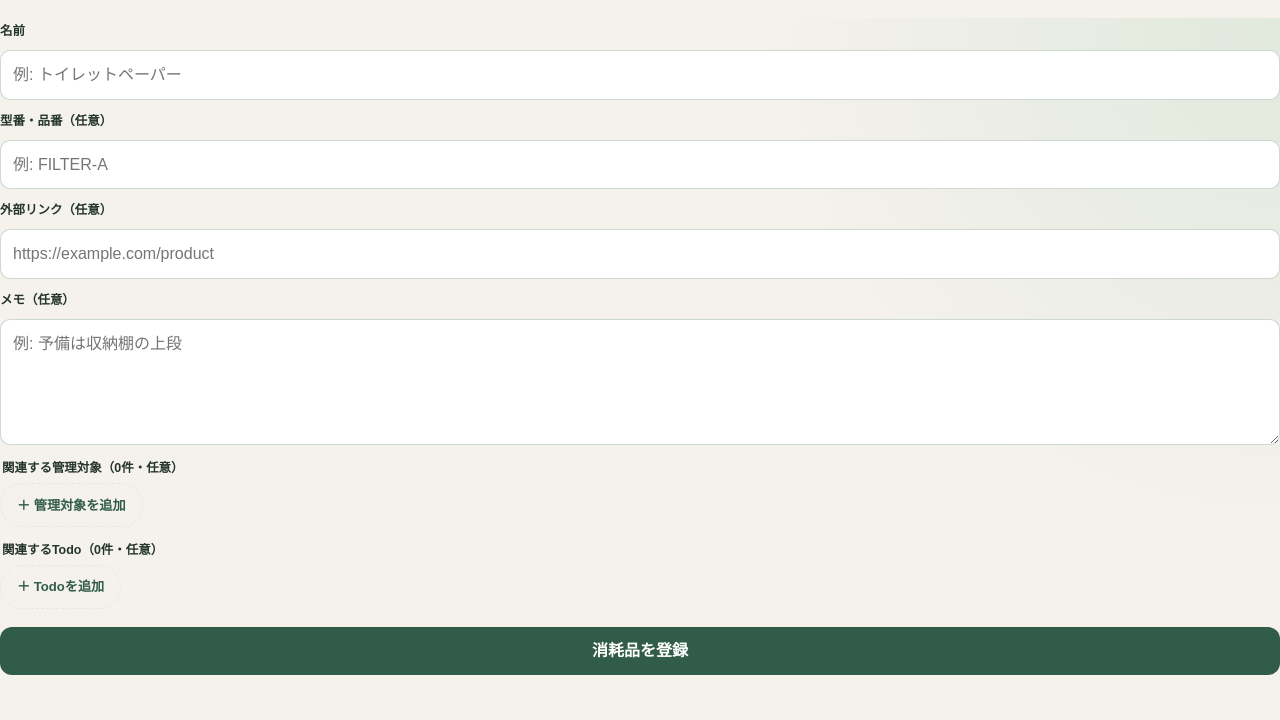
Scenario: 消耗品フォームの関連付け (Issue #292) › キーボードで検索欄へ入り、Escapeで閉じて追加ボタンへ焦点を戻す
Click the button "＋ 管理対象を追加" at {"x": 71, "y": 505}, box [0,483,143,527]
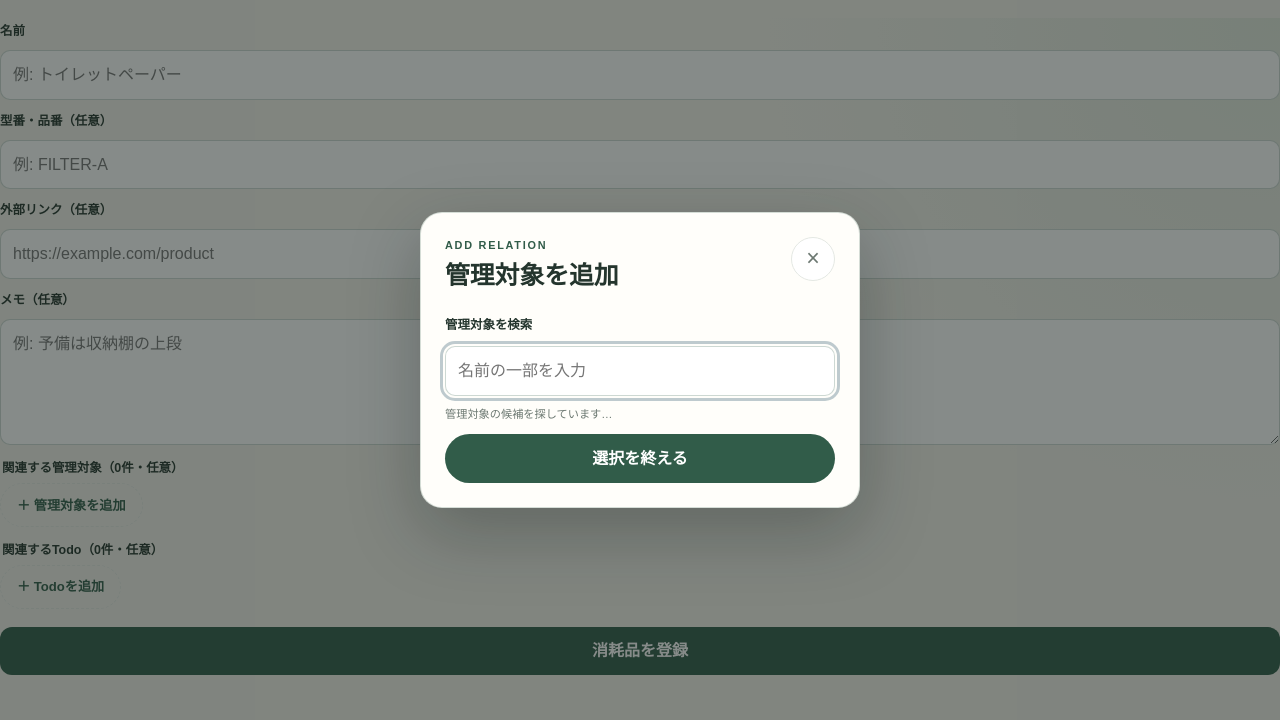
Press Enter in the search field labelled "管理対象を検索", box [445,346,835,396]
Press Escape in the dialog "管理対象を追加", box [420,212,860,508]
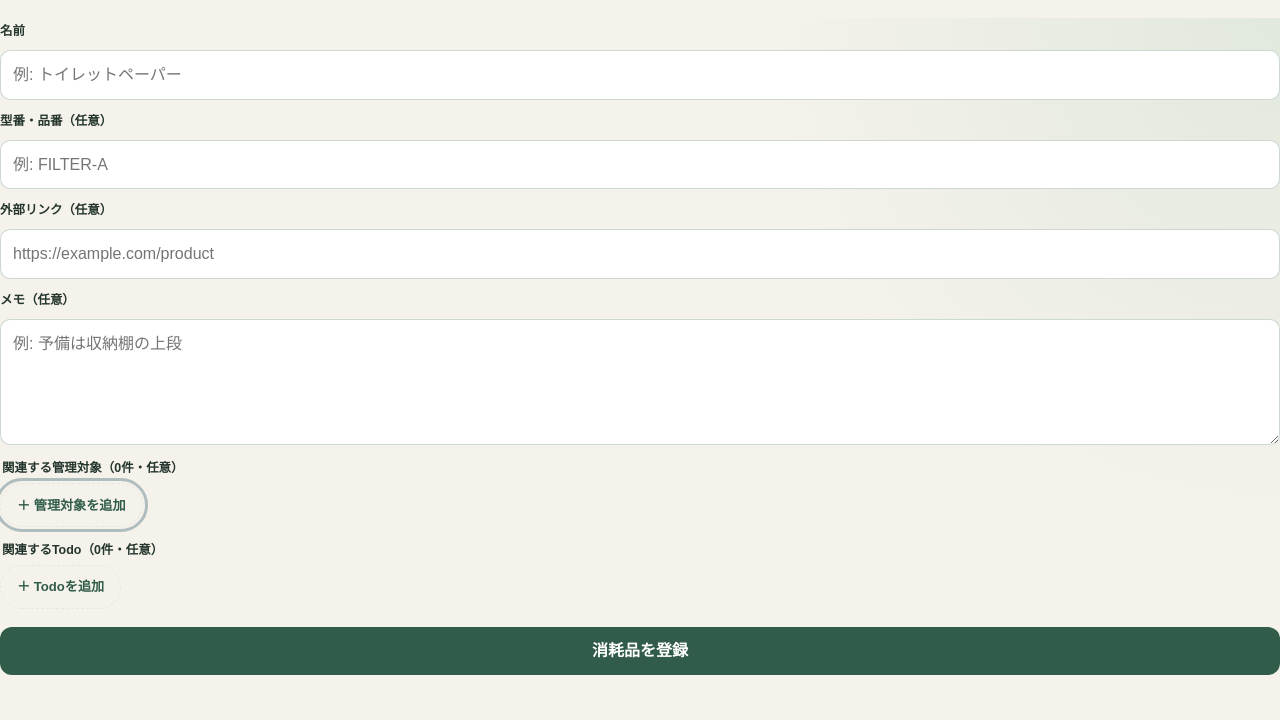
Expected: the dialog is gone
